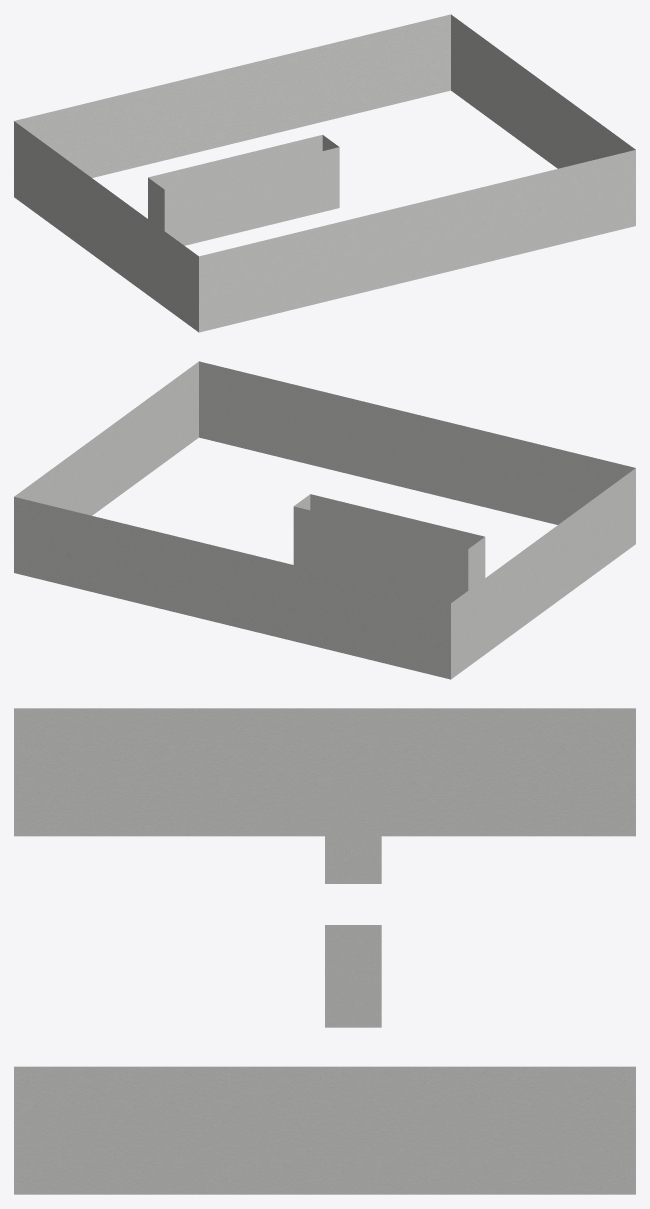
File: test_gallery_02.obj
3 renders of one model, top to bottom at view 1: azimuth 30°, elevation 25°; view 2: azimuth 150°, elevation 25°; view 3: azimuth 270°, elevation 25°, orthographic. The views are drawn at different scales.
Visible parts, largest first — view 1: polySurface3, polySurface5, polySurface6, polySurface2, polySurface11, polySurface7, polySurface12; view 2: polySurface5, polySurface3, polySurface6, polySurface2, polySurface7, polySurface11, polySurface12; view 3: polySurface2, polySurface6, polySurface9, polySurface12.
Part boxes in pixels (x1=…): polySurface3: x1=199, y1=150, x2=635, y2=332; polySurface5: x1=14, y1=14, x2=450, y2=177; polySurface6: x1=14, y1=121, x2=198, y2=332; polySurface2: x1=451, y1=14, x2=635, y2=168; polySurface11: x1=164, y1=147, x2=339, y2=245; polySurface7: x1=148, y1=135, x2=322, y2=189; polySurface12: x1=148, y1=177, x2=164, y2=230; polySurface5: x1=14, y1=497, x2=450, y2=679; polySurface3: x1=199, y1=361, x2=635, y2=524; polySurface6: x1=451, y1=468, x2=635, y2=679; polySurface2: x1=14, y1=361, x2=198, y2=515; polySurface7: x1=293, y1=506, x2=468, y2=603; polySurface11: x1=310, y1=494, x2=484, y2=548; polySurface12: x1=468, y1=537, x2=485, y2=590; polySurface2: x1=14, y1=1066, x2=635, y2=1194; polySurface6: x1=14, y1=708, x2=635, y2=836; polySurface9: x1=325, y1=925, x2=381, y2=1027; polySurface12: x1=325, y1=781, x2=381, y2=883.
Bounding box in the file's own units: 30 × 5 × 22.
Materials: 1 (1 with a texture image).
